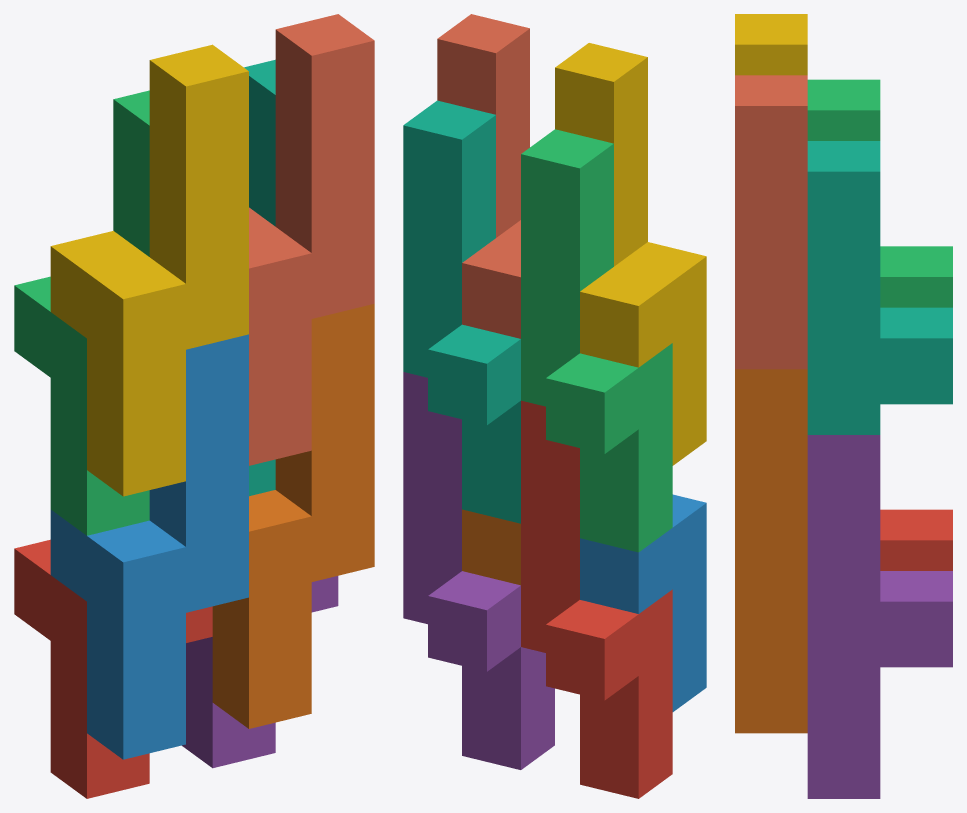
The model's file is tiling.obj.
3 renders of one model, left to right at view 1: azimuth 30°, elevation 25°; view 2: azimuth 150°, elevation 25°; view 3: azimuth 270°, elevation 25°, orthographic. The views are drawn at different scales.
Visible parts, largest first — view 1: copy_1_domain_4, copy_1_domain_2, copy_1_domain_8, copy_1_domain_6, copy_1_domain_3, copy_1_domain_1, copy_1_domain_5, copy_1_domain_7; view 2: copy_1_domain_3, copy_1_domain_7, copy_1_domain_1, copy_1_domain_5, copy_1_domain_4, copy_1_domain_8, copy_1_domain_2, copy_1_domain_6; view 3: copy_1_domain_5, copy_1_domain_7, copy_1_domain_6, copy_1_domain_8, copy_1_domain_3, copy_1_domain_1, copy_1_domain_4.
Boxes of the visible parts, left/top/right/bottom form: copy_1_domain_4: left=50, top=44, right=248, bottom=496; copy_1_domain_2: left=50, top=334, right=248, bottom=759; copy_1_domain_8: left=249, top=14, right=374, bottom=465; copy_1_domain_6: left=212, top=303, right=374, bottom=728; copy_1_domain_3: left=14, top=90, right=149, bottom=535; copy_1_domain_1: left=14, top=539, right=212, bottom=798; copy_1_domain_5: left=182, top=576, right=338, bottom=768; copy_1_domain_7: left=244, top=59, right=275, bottom=496; copy_1_domain_3: left=521, top=129, right=672, bottom=552; copy_1_domain_7: left=403, top=100, right=520, bottom=523; copy_1_domain_1: left=521, top=400, right=672, bottom=798; copy_1_domain_5: left=403, top=372, right=554, bottom=769; copy_1_domain_4: left=555, top=43, right=706, bottom=465; copy_1_domain_8: left=437, top=14, right=529, bottom=338; copy_1_domain_2: left=580, top=494, right=706, bottom=711; copy_1_domain_6: left=462, top=509, right=520, bottom=585; copy_1_domain_5: left=807, top=435, right=952, bottom=798; copy_1_domain_7: left=807, top=141, right=952, bottom=434; copy_1_domain_6: left=735, top=369, right=807, bottom=733; copy_1_domain_8: left=735, top=75, right=807, bottom=369; copy_1_domain_3: left=807, top=79, right=952, bottom=307; copy_1_domain_1: left=880, top=509, right=952, bottom=570; copy_1_domain_4: left=735, top=14, right=807, bottom=75.
Bounding box in the file's own units: 4 × 11 × 3.
